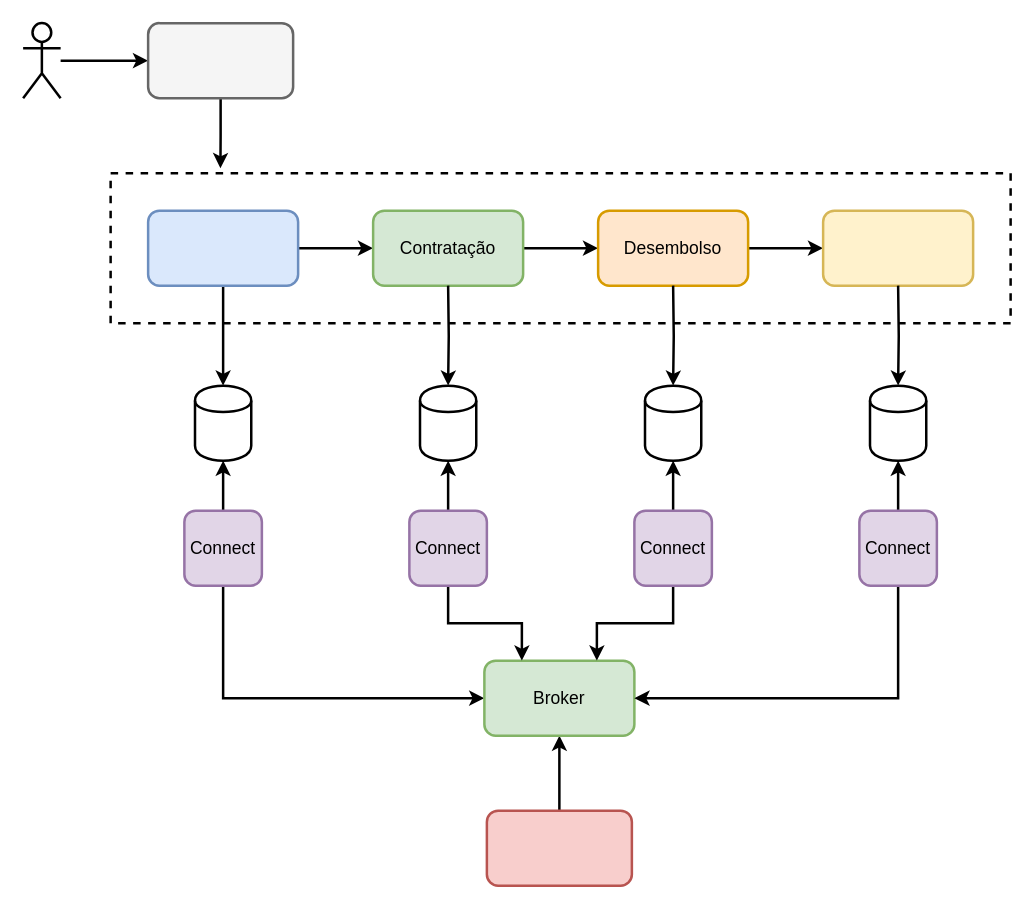
Some shapes in this 1033 by 908 pixel diagram are drawn without their labels. The centre of each missing label's shape, as x and y in pixels:
"API Crédito" belongs at pixel 220 60.
"Contábil" belongs at pixel 897 247.
"Dados" belongs at pixel 558 847.
"Simulação" belongs at pixel 222 247.
